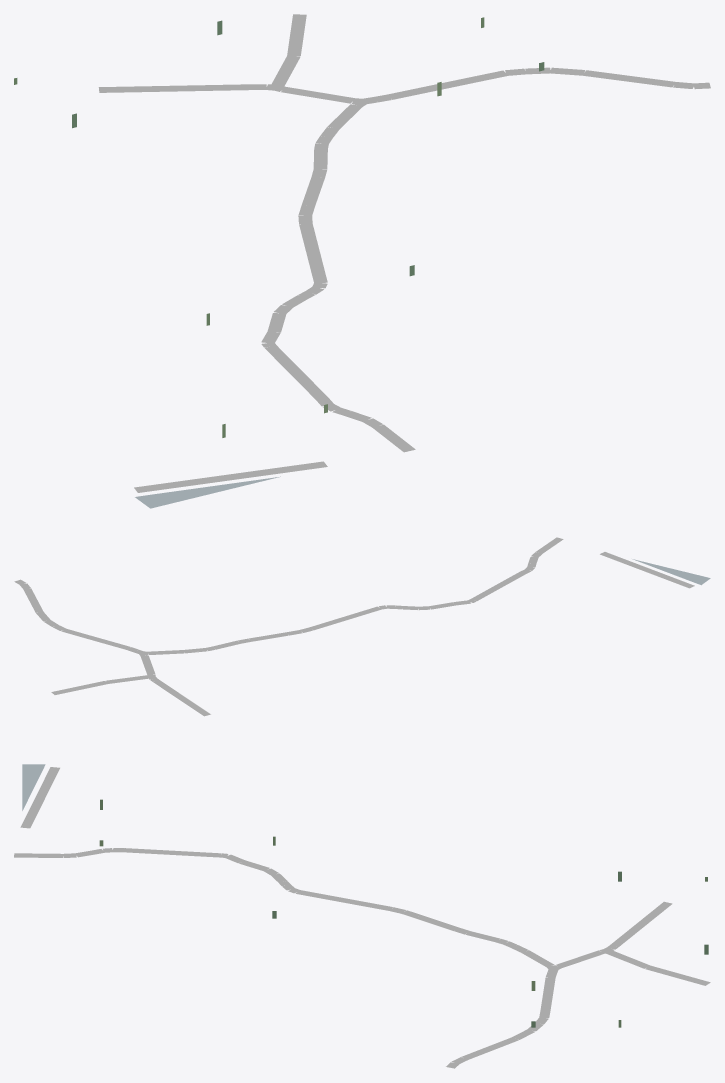
3 views of the same model, one above another, from view 1: azimuth 30°, elevation 25°; view 2: azimuth 150°, elevation 25°; view 3: azimuth 270°, elevation 25° (orthographic). The views are drawn at different scales.
Size of the model in its own units: 502 by 8.96 by 484.
